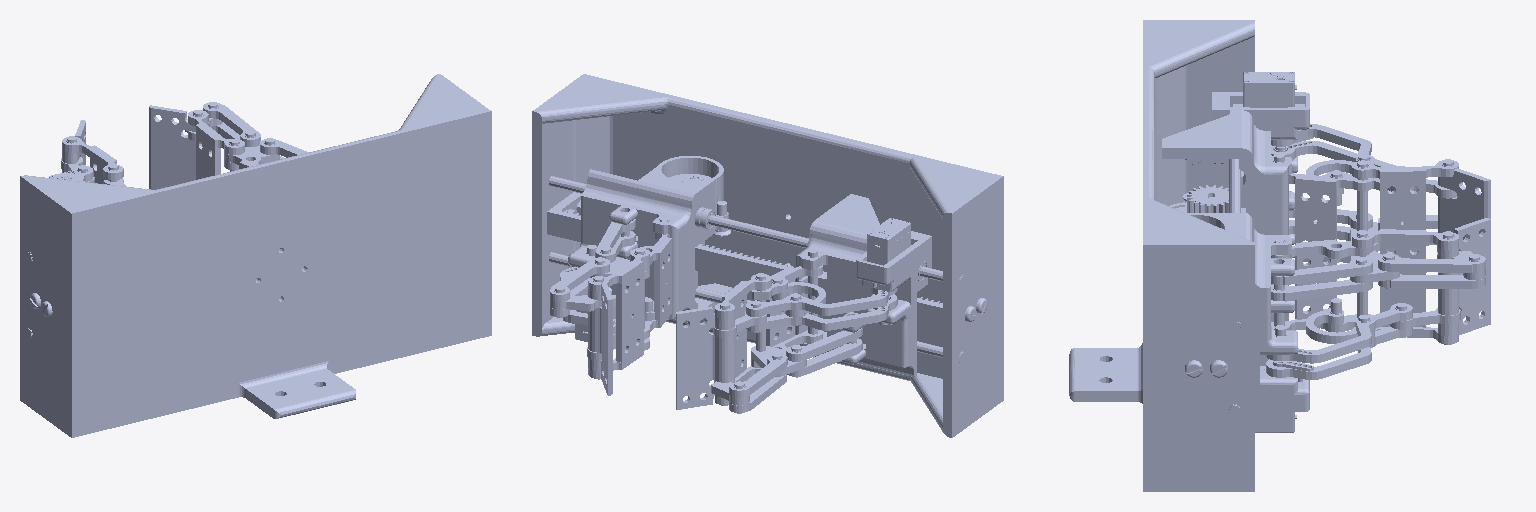
URDF robot description (Final_Assembly.SLDASM):
<?xml version="1.0" encoding="utf-8"?>
<!-- This URDF was automatically created by SolidWorks to URDF Exporter! Originally created by [author] ([email redacted]) 
     Commit Version: 1.6.0-4-g7f85cfe  Build Version: 1.6.7995.38578
     For more information, please see http://wiki.ros.org/sw_urdf_exporter -->
<robot
  name="Final_Assembly.SLDASM">
  <link
    name="base_link">
    <inertial>
      <origin
        xyz="6.9038E-05 0.012473 -0.002324"
        rpy="0 0 0" />
      <mass
        value="0.27541" />
      <inertia
        ixx="0.0004016"
        ixy="1.0222E-07"
        ixz="5.5689E-07"
        iyy="0.0023016"
        iyz="-1.0632E-05"
        izz="0.0019886" />
    </inertial>
    <visual>
      <origin
        xyz="0 0 0"
        rpy="0 0 0" />
      <geometry>
        <mesh
          filename="package://Final_Assembly.SLDASM/meshes/base_link.STL" />
      </geometry>
      <material
        name="">
        <color
          rgba="0.79216 0.81961 0.93333 1" />
      </material>
    </visual>
    <collision>
      <origin
        xyz="0 0 0"
        rpy="0 0 0" />
      <geometry>
        <mesh
          filename="package://Final_Assembly.SLDASM/meshes/base_link.STL" />
      </geometry>
    </collision>
  </link>
  <link
    name="claw2">
    <inertial>
      <origin
        xyz="0.0094684 0.017527 0.020737"
        rpy="0 0 0" />
      <mass
        value="0.11801" />
      <inertia
        ixx="3.9078E-05"
        ixy="1.0048E-06"
        ixz="3.4643E-06"
        iyy="4.9475E-05"
        iyz="4.7534E-07"
        izz="3.1211E-05" />
    </inertial>
    <visual>
      <origin
        xyz="0 0 0"
        rpy="0 0 0" />
      <geometry>
        <mesh
          filename="package://Final_Assembly.SLDASM/meshes/claw2.STL" />
      </geometry>
      <material
        name="">
        <color
          rgba="0.79216 0.81961 0.93333 1" />
      </material>
    </visual>
    <collision>
      <origin
        xyz="0 0 0"
        rpy="0 0 0" />
      <geometry>
        <mesh
          filename="package://Final_Assembly.SLDASM/meshes/claw2.STL" />
      </geometry>
    </collision>
  </link>
  <joint
    name="claw2translation"
    type="prismatic">
    <origin
      xyz="-0.068604 0.040444 -0.021092"
      rpy="0 0 0" />
    <parent
      link="base_link" />
    <child
      link="claw2" />
    <axis
      xyz="1 0 0" />
    <limit
      lower="0"
      upper="0.04"
      effort="10"
      velocity="10" />
    <dynamics
      damping="0.1"
      friction="0.1" />
  </joint>
  <link
    name="claw1">
    <inertial>
      <origin
        xyz="6.9038E-05 0.012473 -0.002324"
        rpy="0 0 0" />
      <mass
        value="0.11801" />
      <inertia
        ixx="0.0004016"
        ixy="1.0222E-07"
        ixz="5.5689E-07"
        iyy="0.0023016"
        iyz="-1.0632E-05"
        izz="0.0019886" />
    </inertial>
    <visual>
      <origin
        xyz="0 0 0"
        rpy="0 0 0" />
      <geometry>
        <mesh
          filename="package://Final_Assembly.SLDASM/meshes/claw1.STL" />
      </geometry>
      <material
        name="">
        <color
          rgba="0.79216 0.81961 0.93333 1" />
      </material>
    </visual>
    <collision>
      <origin
        xyz="0 0 0"
        rpy="0 0 0" />
      <geometry>
        <mesh
          filename="package://Final_Assembly.SLDASM/meshes/claw1.STL" />
      </geometry>
    </collision>
  </link>
  <joint
    name="claw1translation"
    type="prismatic">
    <origin
      xyz="0.060537 0.040444 0.019491"
      rpy="3.1416 0 3.1416" />
    <parent
      link="base_link" />
    <child
      link="claw1" />
    <axis
      xyz="-1 0 0" />
    <limit
      lower="0"
      upper="0.04"
      effort="10"
      velocity="10" />
    <dynamics
      damping="0.1"
      friction="0.1" />
  </joint>
</robot>

--- Facts derived from the render (not from the file) ---
Views: 3 orthographic renders of the robot side by side, from view 1: azimuth 30°, elevation 25°; view 2: azimuth 150°, elevation 25°; view 3: azimuth 270°, elevation 25°.
Model Final_Assembly.SLDASM with 3 links and 2 joints (2 prismatic), rooted at base_link, posed every joint at zero.
Links seen in each view (by area): view 1: base_link, claw1, claw2; view 2: base_link, claw2, claw1; view 3: base_link, claw1, claw2.
Link boxes in pixels (bbox=[...]): base_link: bbox=[20, 74, 491, 437]; claw1: bbox=[149, 102, 308, 189]; claw2: bbox=[49, 120, 126, 186]; base_link: bbox=[532, 74, 1003, 437]; claw2: bbox=[676, 194, 931, 413]; claw1: bbox=[550, 156, 732, 395]; base_link: bbox=[1069, 20, 1254, 491]; claw1: bbox=[1186, 213, 1490, 432]; claw2: bbox=[1162, 72, 1490, 272].
Size in the robot's own frame: 0.2388 by 0.1856 by 0.1196 metres.
3 mesh visuals loaded from 3 distinct referenced files (3 binary STL).